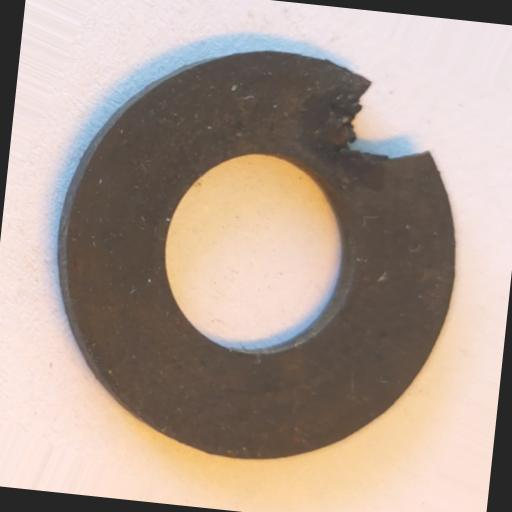defect: (342, 80, 437, 166)
